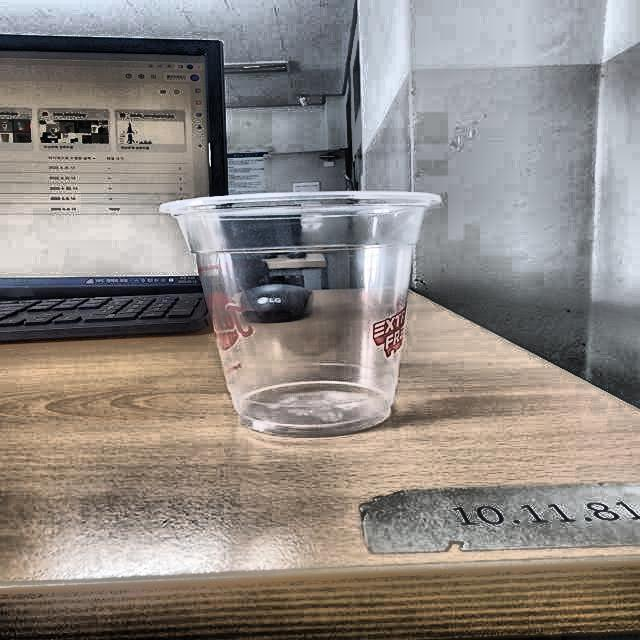plastic cup: (154, 186, 440, 436)
